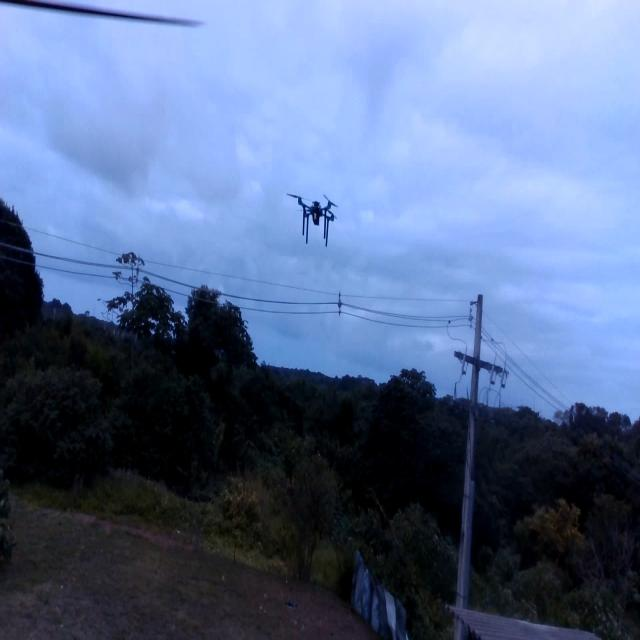-uav-: (285, 182, 342, 256)
